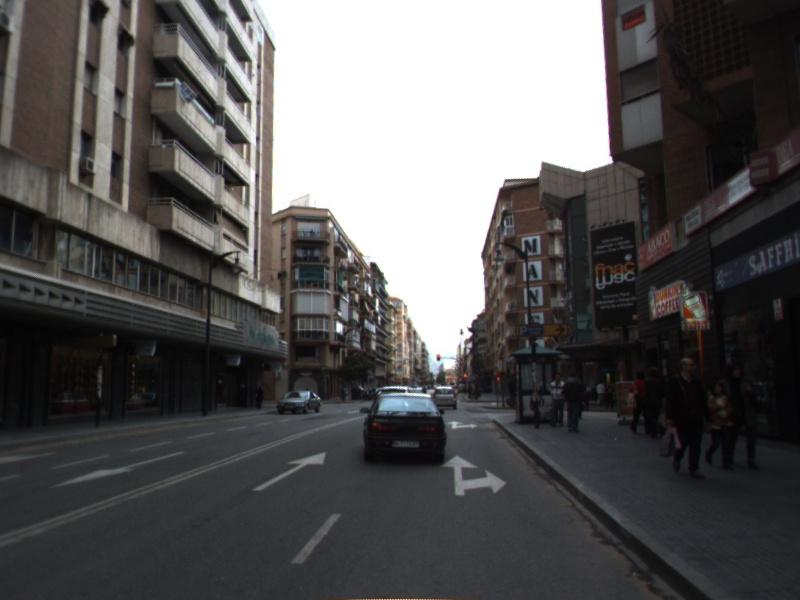STRAIGHT: (249, 449, 328, 493)
STRAIGHT_RIGHT: (438, 453, 509, 498), (444, 419, 479, 431)
